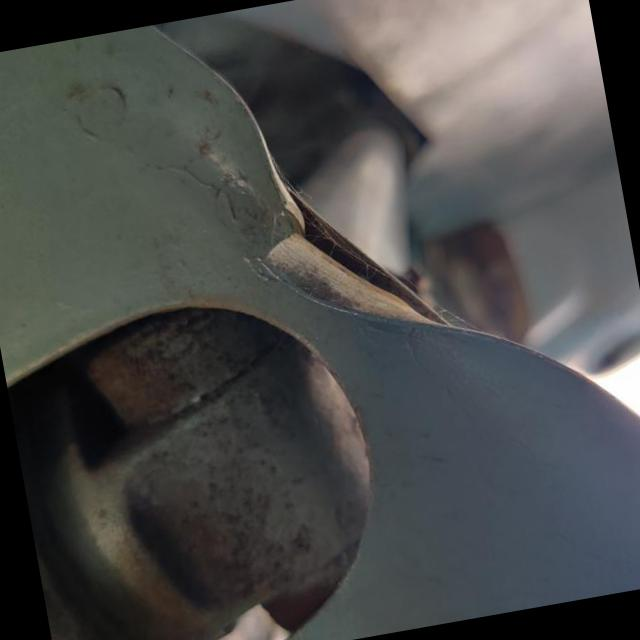Crack: (279, 203, 304, 232)
